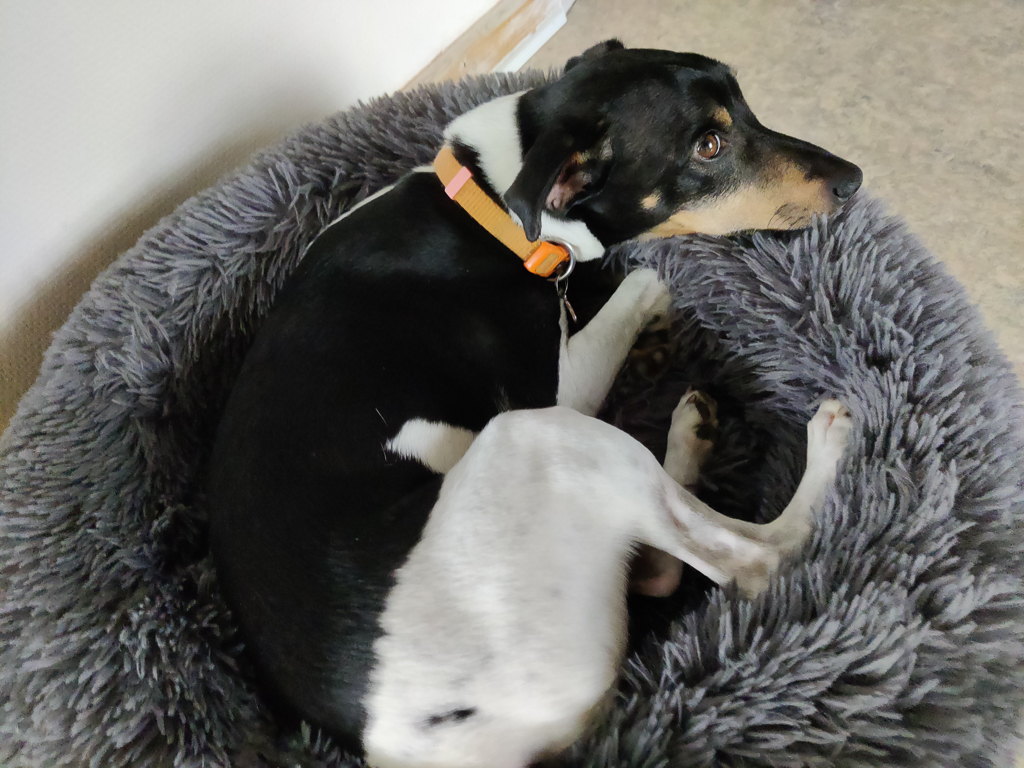Dog: (155, 22, 893, 768)
